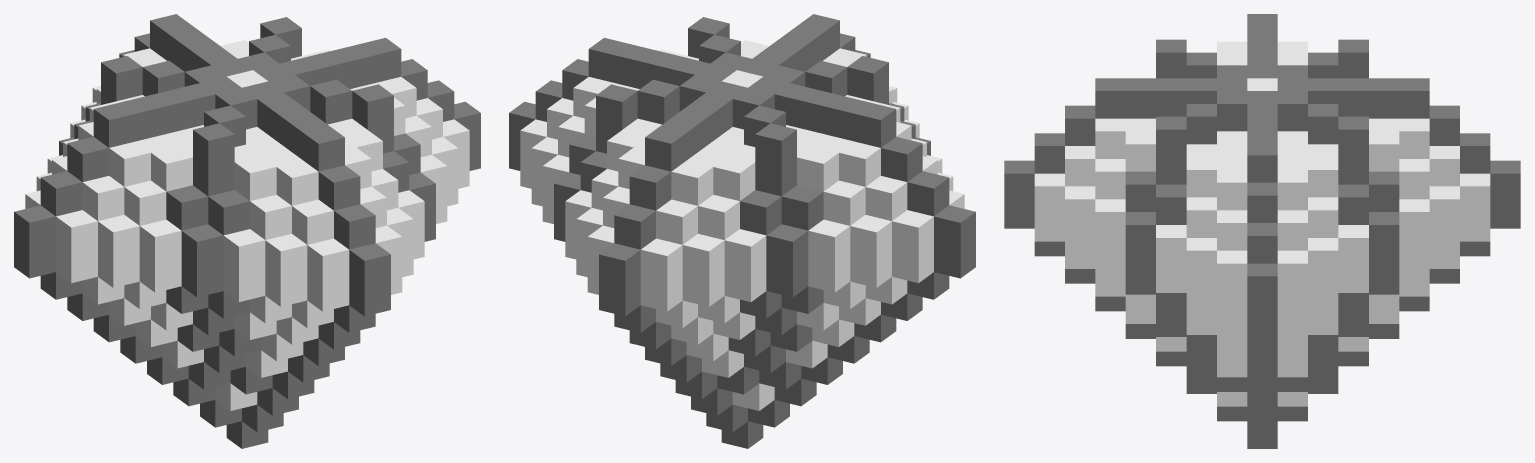
Rendered from Diamond.obj.
The picture shows the model from 3 angles, left to right: view 1: azimuth 30°, elevation 25°; view 2: azimuth 150°, elevation 25°; view 3: azimuth 270°, elevation 25°; orthographic projection.
Bounding box in the file's own units: 17 × 13 × 17.
